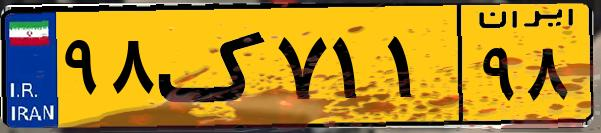1: (385, 28, 445, 110), (330, 28, 385, 110)
7: (270, 28, 330, 110)
8: (525, 38, 570, 115), (110, 28, 158, 98)
9: (57, 26, 110, 100), (475, 38, 525, 113)
ک: (158, 12, 270, 120)
